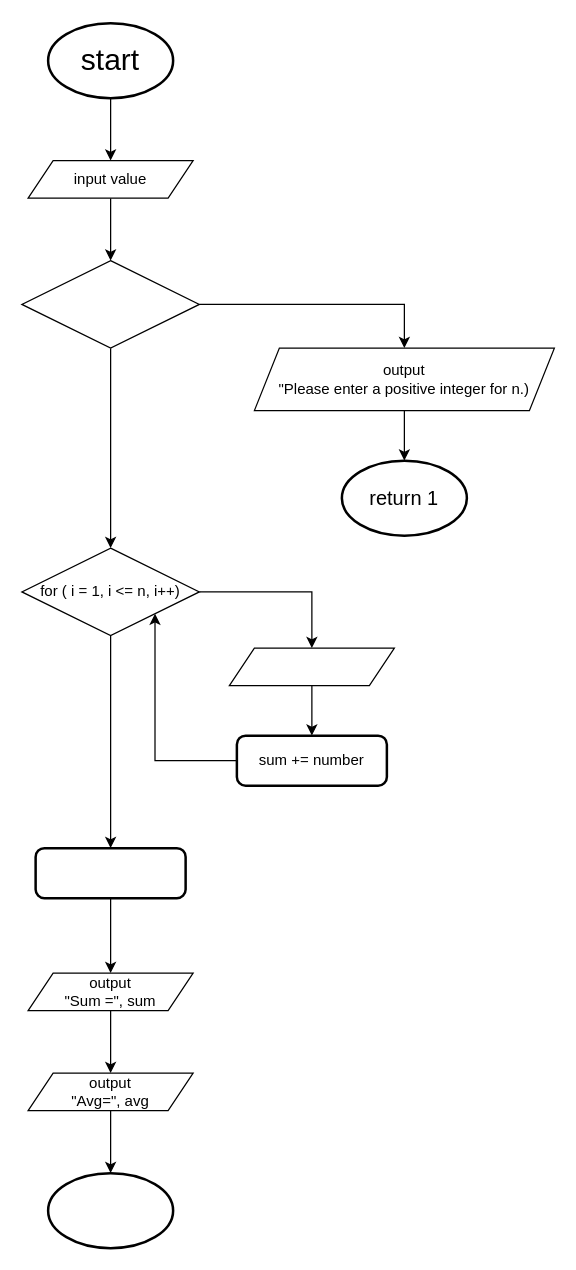
Some shapes in this 576 by 1270 pixel diagram are drawn without their labels. The centre of each missing label's shape, as x and y in pixels:
"avg = (float) sum / n" goes at point 110,872.
"end" goes at point 110,1210.
"if ( n <= 0 )" goes at point 110,303.
"input number" goes at point 311,666.
